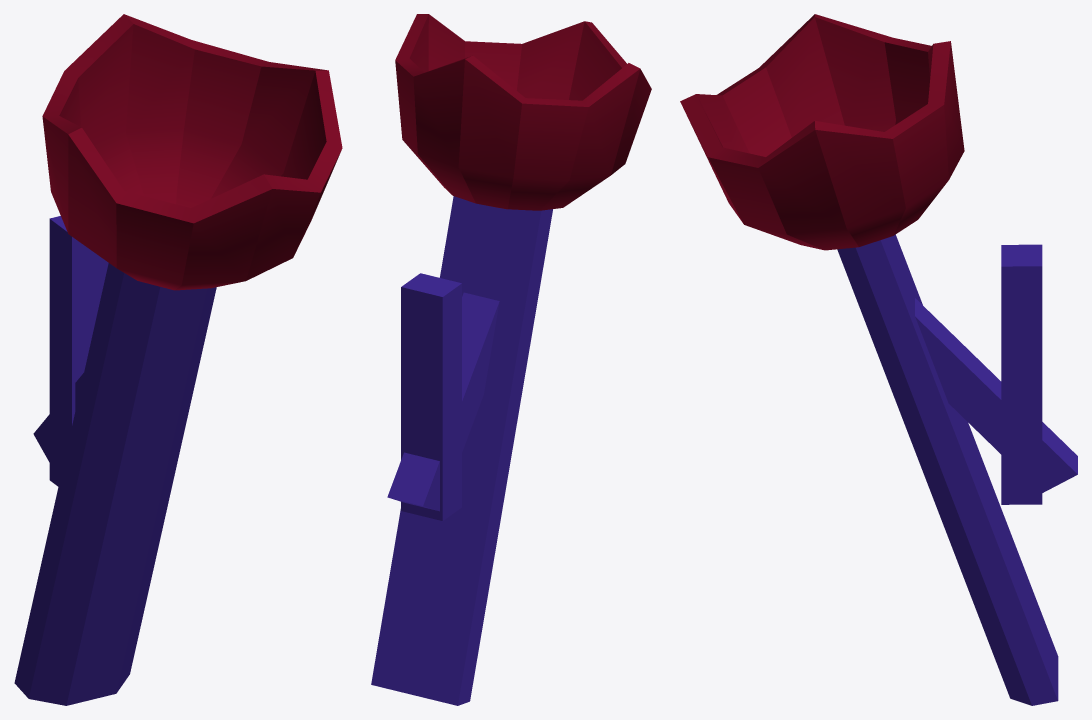
File: Fackel.FBX
The picture shows the model from 3 angles, left to right: view 1: azimuth 30°, elevation 25°; view 2: azimuth 150°, elevation 25°; view 3: azimuth 270°, elevation 25°; orthographic projection. The views are drawn at different scales.
Parts seen in each view (by area): view 1: Fackel; view 2: Fackel; view 3: Fackel.
Part boxes in pixels (box(x1,y1,x2,y2)): Fackel: box(14, 14, 342, 705); Fackel: box(371, 14, 651, 705); Fackel: box(680, 14, 1077, 705).
Bounding box in the file's own units: 11.51 × 29.93 × 16.7.
